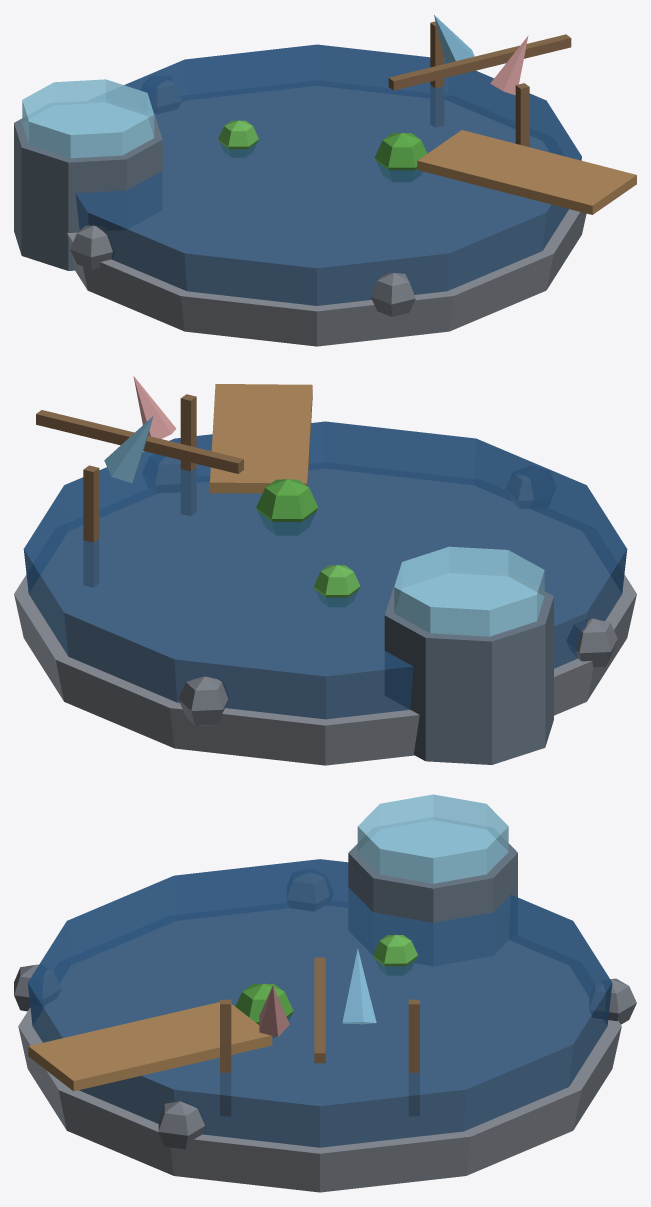
Rendered from fishfarm.glb.
3 renders of one model, top to bottom at view 1: azimuth 30°, elevation 25°; view 2: azimuth 150°, elevation 25°; view 3: azimuth 270°, elevation 25°, orthographic. The views are drawn at different scales.
Parts seen in each view (by area): view 1: GlassM_b0, M_b1, M_b2, M_b10, GlassM_b3, M_b4, M_b7, M_b8, M_b9, Fish2, Fish1; view 2: GlassM_b0, M_b1, M_b2, GlassM_b3, M_b10, M_b4, M_b7, M_b8, M_b9, Fish1, Fish2; view 3: GlassM_b0, M_b1, M_b2, M_b10, GlassM_b3, M_b7, M_b4, M_b9, Fish1, M_b8, Fish2.
Boxes of the visible parts, x1=… form: GlassM_b0: x1=75, y1=44, x2=581, y2=305; M_b1: x1=67, y1=86, x2=586, y2=346; M_b2: x1=14, y1=115, x2=162, y2=270; M_b10: x1=417, y1=130, x2=636, y2=214; GlassM_b3: x1=22, y1=79, x2=154, y2=158; M_b4: x1=388, y1=21, x2=571, y2=147; M_b7: x1=70, y1=80, x2=415, y2=316; M_b8: x1=374, y1=133, x2=427, y2=181; M_b9: x1=218, y1=120, x2=258, y2=157; Fish2: x1=490, y1=36, x2=528, y2=95; Fish1: x1=434, y1=15, x2=474, y2=63; GlassM_b0: x1=23, y1=421, x2=627, y2=719; M_b1: x1=14, y1=469, x2=636, y2=765; M_b2: x1=384, y1=587, x2=553, y2=764; GlassM_b3: x1=394, y1=546, x2=544, y2=636; M_b10: x1=210, y1=384, x2=312, y2=493; M_b4: x1=36, y1=394, x2=243, y2=586; M_b7: x1=154, y1=457, x2=617, y2=725; M_b8: x1=256, y1=479, x2=318, y2=535; M_b9: x1=314, y1=565, x2=360, y2=606; Fish1: x1=104, y1=416, x2=153, y2=482; Fish2: x1=133, y1=376, x2=176, y2=438; GlassM_b0: x1=27, y1=859, x2=612, y2=1147; M_b1: x1=18, y1=905, x2=621, y2=1192; M_b2: x1=348, y1=843, x2=517, y2=965; M_b10: x1=28, y1=1002, x2=272, y2=1091; GlassM_b3: x1=357, y1=794, x2=508, y2=883; M_b7: x1=14, y1=873, x2=636, y2=1149; M_b4: x1=220, y1=957, x2=419, y2=1115; M_b9: x1=373, y1=934, x2=417, y2=975; Fish1: x1=342, y1=948, x2=376, y2=1024; M_b8: x1=235, y1=983, x2=293, y2=1037; Fish2: x1=259, y1=985, x2=289, y2=1037.
Size of the model in its own units: 3.38 by 1.13 by 3.3.
